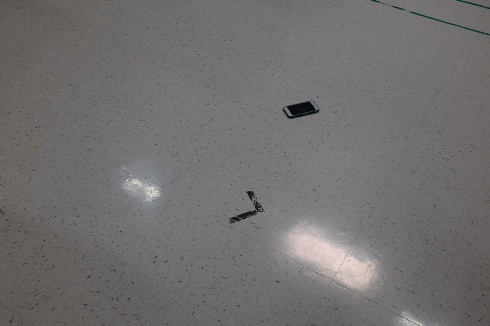phone: (274, 92, 323, 124)
